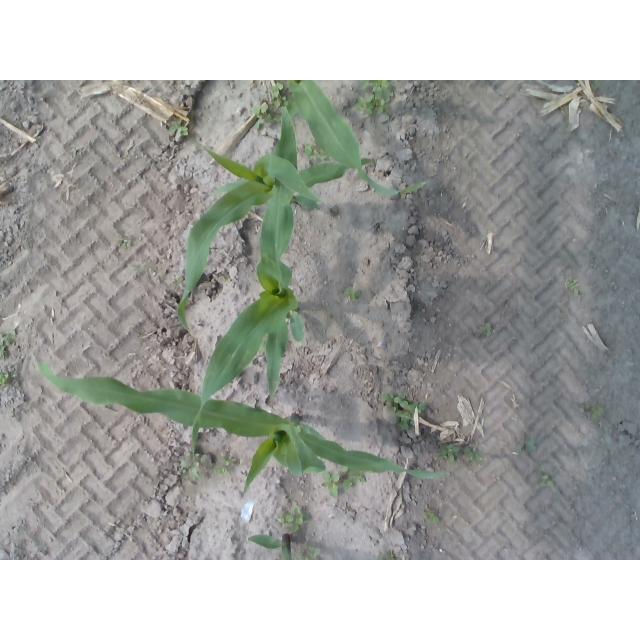Maize: (33, 352, 448, 500), (191, 107, 307, 474), (177, 144, 374, 333), (286, 81, 427, 197), (247, 533, 293, 560)
Weeds: (382, 395, 427, 430), (355, 82, 394, 119), (255, 102, 271, 130), (323, 472, 341, 496), (340, 473, 364, 490), (0, 334, 16, 359), (220, 450, 236, 474), (270, 83, 283, 110), (444, 444, 461, 463), (286, 514, 303, 531), (170, 122, 188, 138), (425, 507, 440, 526), (475, 323, 493, 338), (463, 447, 482, 461), (1, 367, 15, 385), (344, 287, 360, 302), (568, 278, 580, 295), (519, 441, 537, 452), (592, 407, 605, 419), (539, 476, 553, 487), (124, 239, 133, 249)
